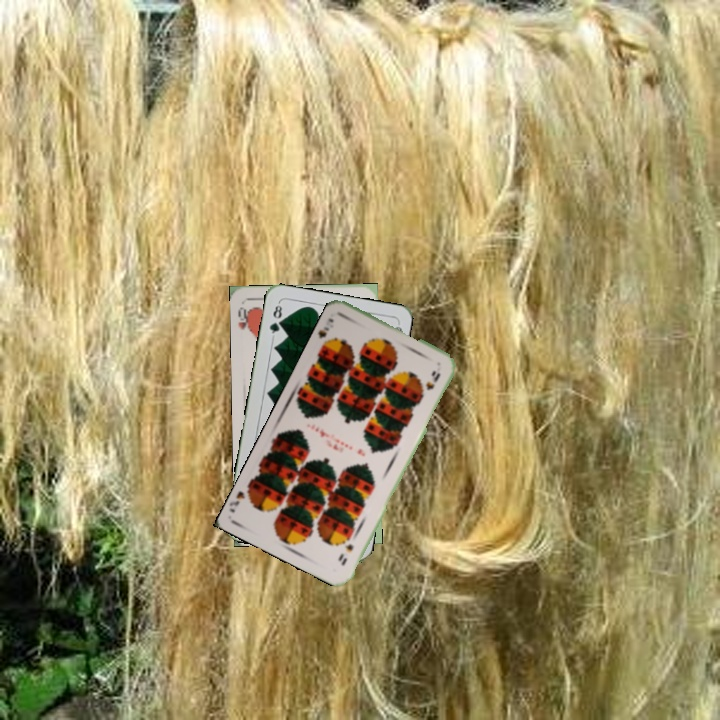G8: (265, 299, 285, 339)
HO: (234, 303, 253, 334)
S9: (315, 314, 336, 350), (336, 540, 356, 569)
